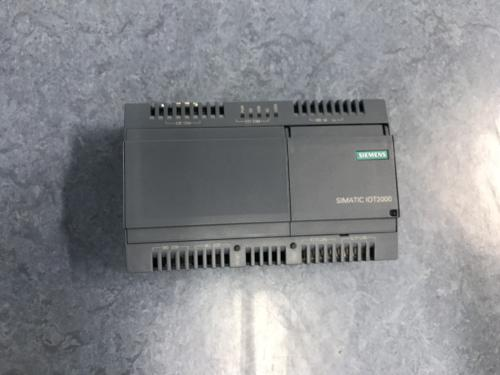device: (100, 103, 379, 277)
